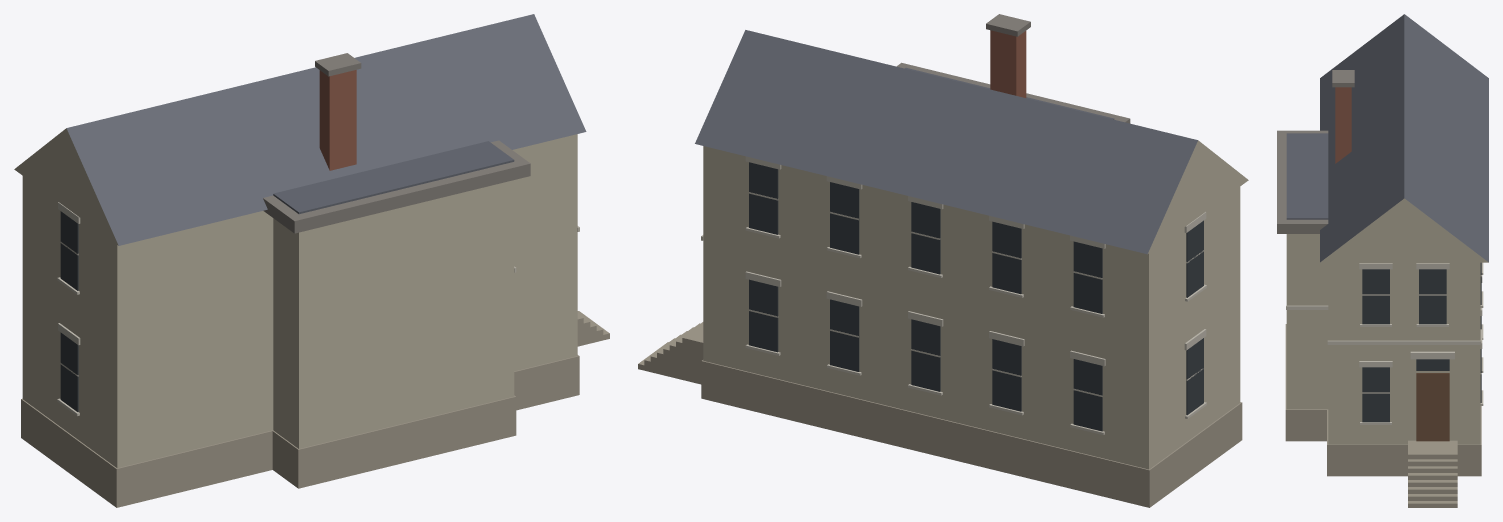
The model's file is house_1601_prairie__draft_1904.glb.
3 renders of one model, left to right at view 1: azimuth 30°, elevation 25°; view 2: azimuth 150°, elevation 25°; view 3: azimuth 270°, elevation 25°, orthographic. The views are drawn at different scales.
Parts seen in each view (by area): view 1: house_1601_prairie__draft_1904; view 2: house_1601_prairie__draft_1904; view 3: house_1601_prairie__draft_1904.
Part boxes in pixels (bbox=[...]): house_1601_prairie__draft_1904: bbox=[14, 14, 609, 507]; house_1601_prairie__draft_1904: bbox=[638, 14, 1248, 507]; house_1601_prairie__draft_1904: bbox=[1277, 14, 1488, 507].
Bounding box in the file's own units: 18.36 × 12.29 × 7.65.
